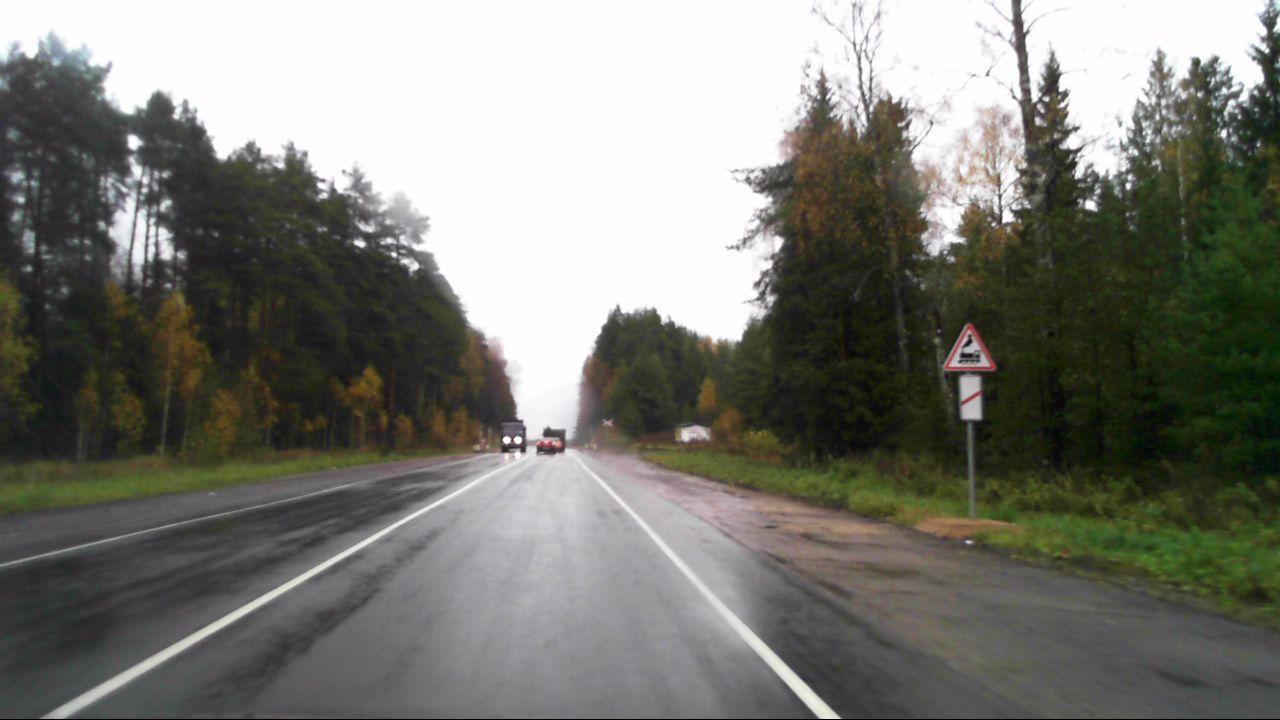1_2: (942, 321, 998, 372)
1_3_1: (602, 418, 615, 427)
1_4_3: (959, 373, 985, 422)
